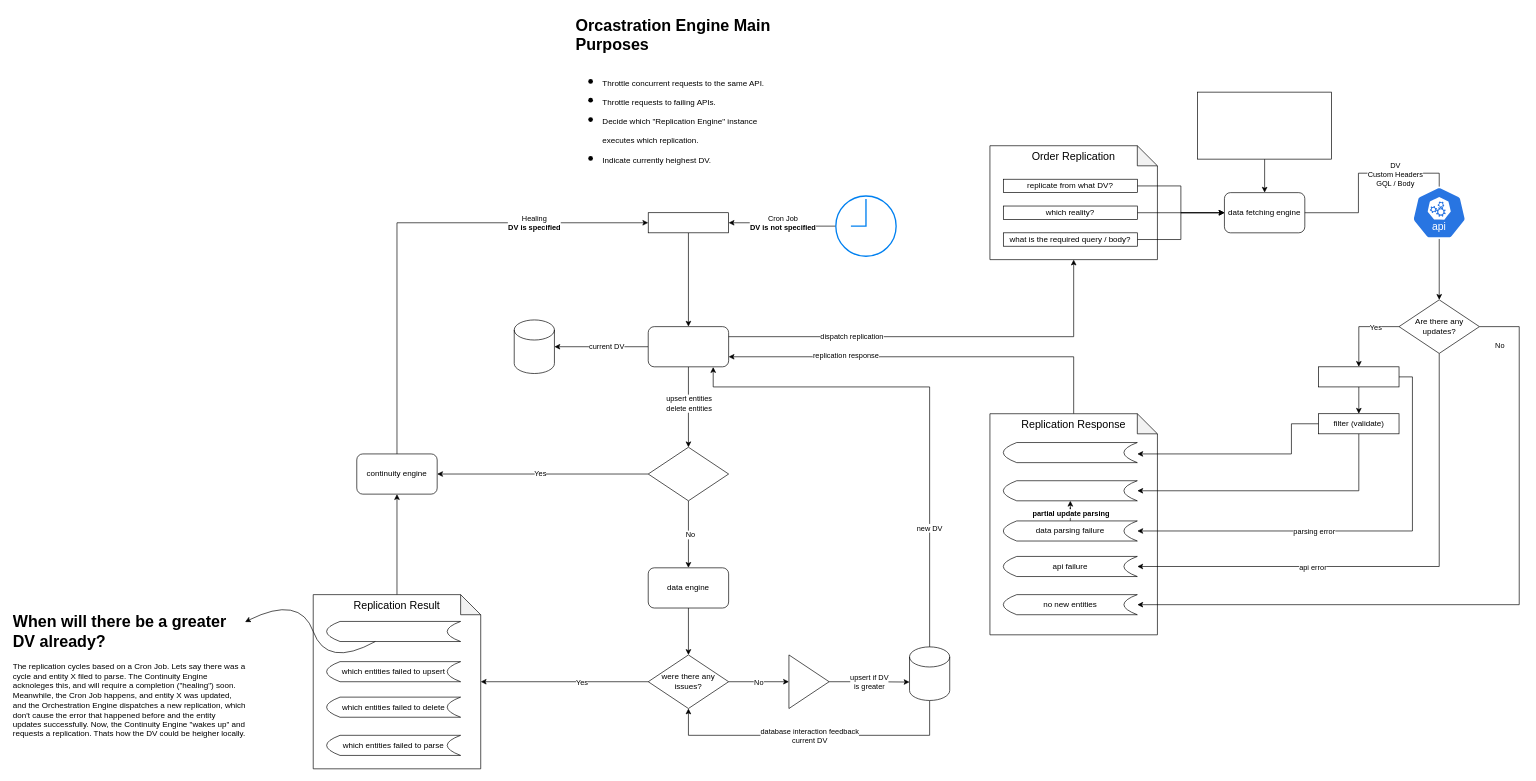
Image size: 1536x781. Some labels were removed from this diagram. Each missing label, with the box of its shape:
Config: Keys Tokens URLs: (1197, 91, 1332, 159)
filtered + invalidated entities updates: (1003, 442, 1137, 463)
orcastration engine: (648, 326, 729, 367)
parse: (1318, 366, 1399, 387)
parsed entities updates: (1003, 480, 1137, 501)
query / pod failed?: (648, 447, 729, 501)
replication request: (648, 212, 729, 233)
sql: (788, 654, 829, 709)
which entities had greater DV already: (326, 621, 461, 642)
